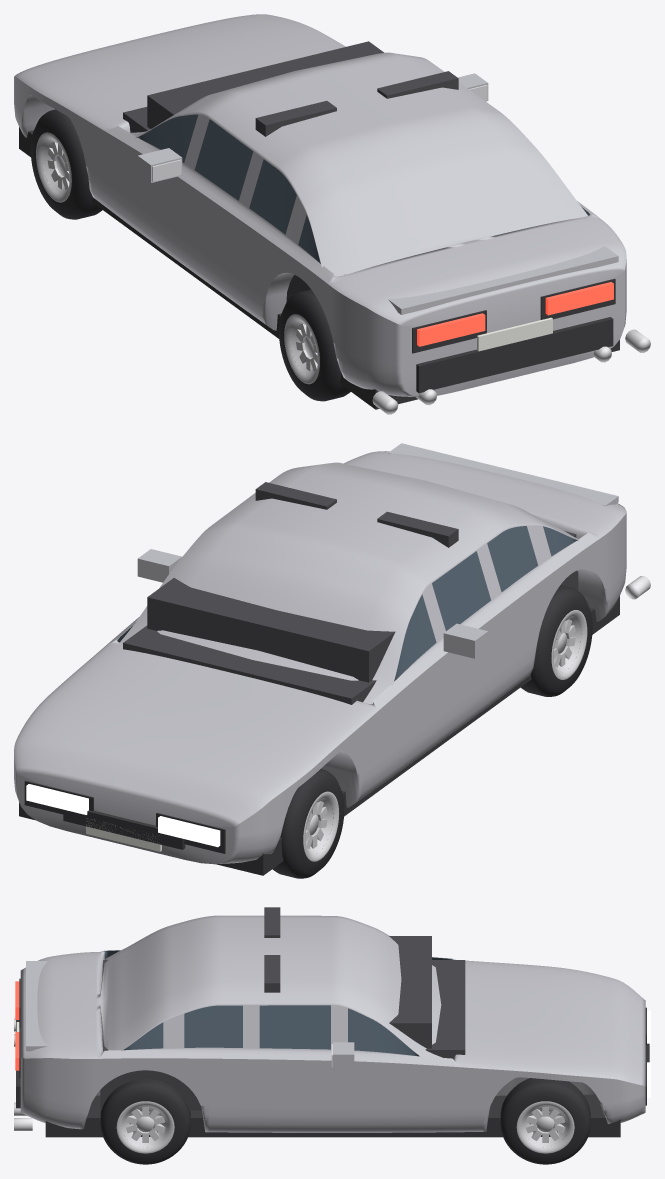
File: shigjeta.glb
The picture shows the model from 3 angles, top to bottom: view 1: azimuth 30°, elevation 25°; view 2: azimuth 150°, elevation 25°; view 3: azimuth 270°, elevation 25°; orthographic projection. The views are drawn at different scales.
Parts seen in each view (by area): view 1: body, wheel_rl, wheel_fl; view 2: body, wheel_fl, wheel_rl; view 3: body, wheel_fr, wheel_rr.
Part boxes in pixels (box(x1,y1,x2,y2)): body: box(14, 14, 650, 414); wheel_rl: box(279, 289, 350, 401); wheel_fl: box(30, 109, 102, 219); body: box(14, 443, 650, 875); wheel_fl: box(272, 769, 344, 878); wheel_rl: box(521, 585, 592, 696); body: box(14, 907, 650, 1137); wheel_fr: box(500, 1078, 590, 1164); wheel_rr: box(100, 1079, 190, 1164).
Bounding box in the file's own units: 2.36 × 1.41 × 4.79.
